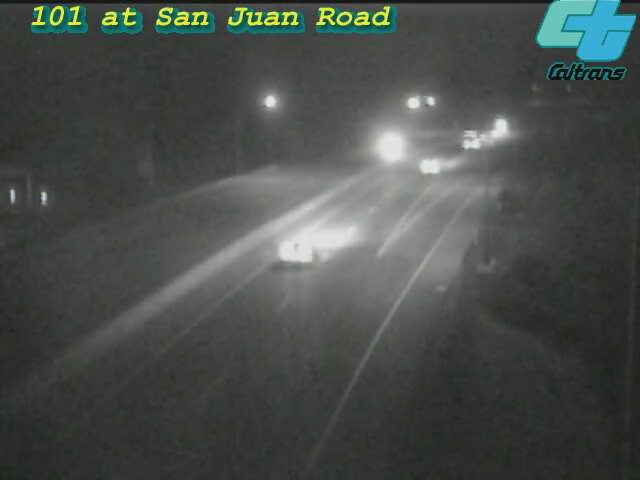vehicle: (392, 125, 472, 205), (259, 212, 339, 292), (361, 122, 411, 172), (474, 101, 524, 151), (468, 109, 518, 159), (451, 115, 501, 165)
